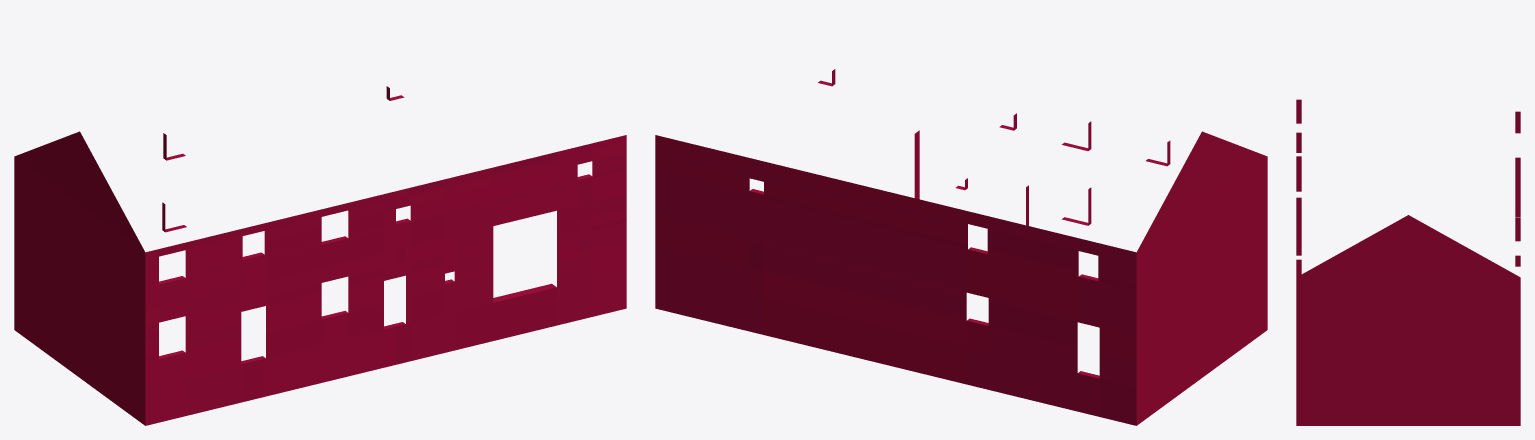
File: SM_Bld_158_Masonry.glb
The picture shows the model from 3 angles, left to right: view 1: azimuth 30°, elevation 25°; view 2: azimuth 150°, elevation 25°; view 3: azimuth 270°, elevation 25°; orthographic projection. The views are drawn at different scales.
Visible parts, largest first — view 1: SM_Bld_158_Masonry; view 2: SM_Bld_158_Masonry; view 3: SM_Bld_158_Masonry.
Part boxes in pixels (left/top/right/bottom): SM_Bld_158_Masonry: left=14, top=86, right=626, bottom=425; SM_Bld_158_Masonry: left=655, top=69, right=1267, bottom=425; SM_Bld_158_Masonry: left=1296, top=99, right=1520, bottom=425.
Bounding box in the file's own units: 19.72 × 9.66 × 9.3.
